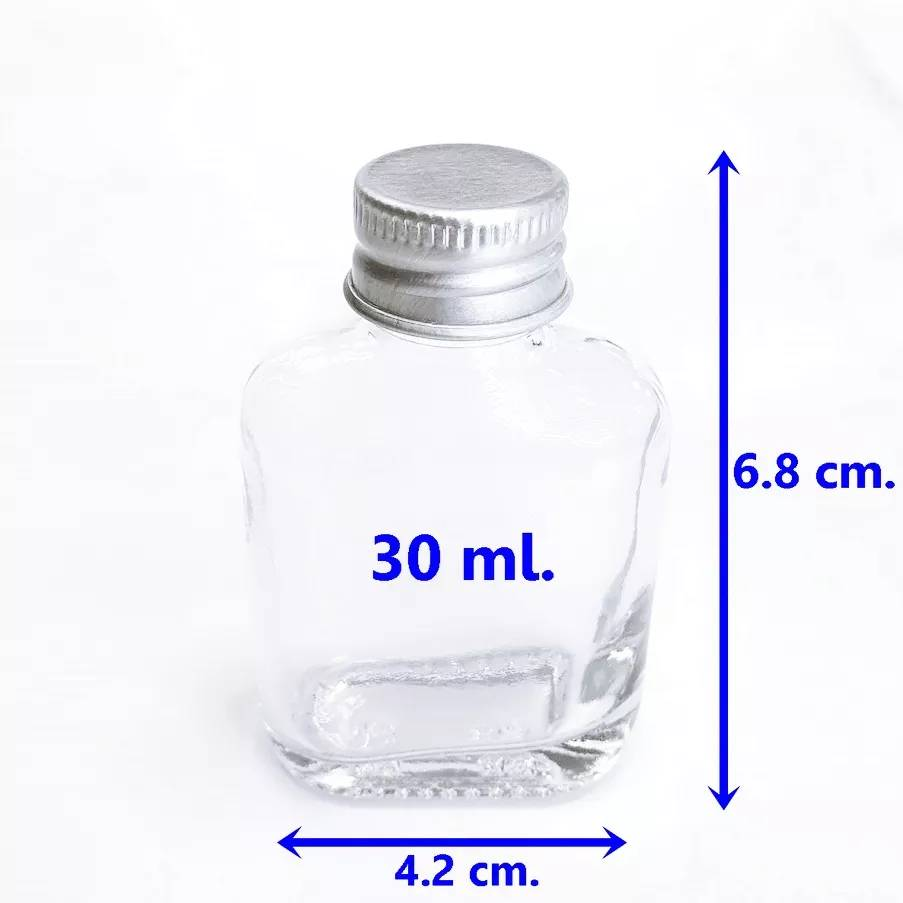glass_bottle: (229, 128, 665, 824)
